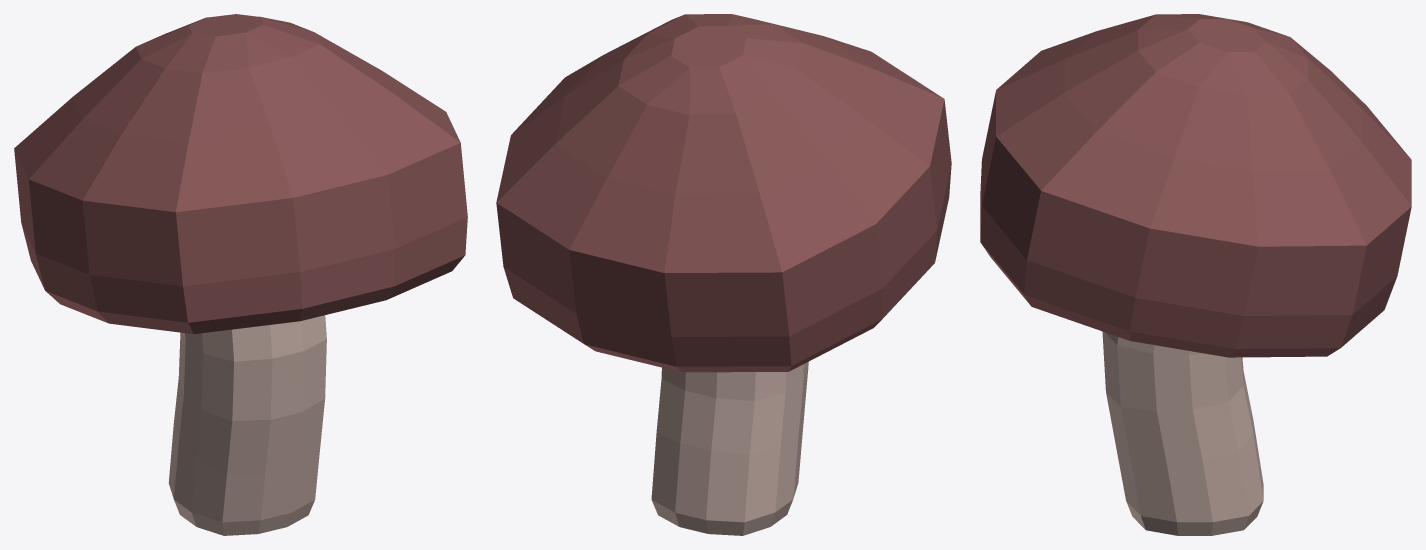
Rendered from Mushroom2.4.fbx.
3 renders of one model, left to right at view 1: azimuth 30°, elevation 25°; view 2: azimuth 150°, elevation 25°; view 3: azimuth 270°, elevation 25°, orthographic.
Parts seen in each view (by area): view 1: Mushroom2.4; view 2: Mushroom2.4; view 3: Mushroom2.4.
Part boxes in pixels (<box>): Mushroom2.4: <box>14,14,467,535</box>; Mushroom2.4: <box>496,14,951,535</box>; Mushroom2.4: <box>980,14,1411,535</box>.
Size of the model in its own units: 122 by 153 by 124.
